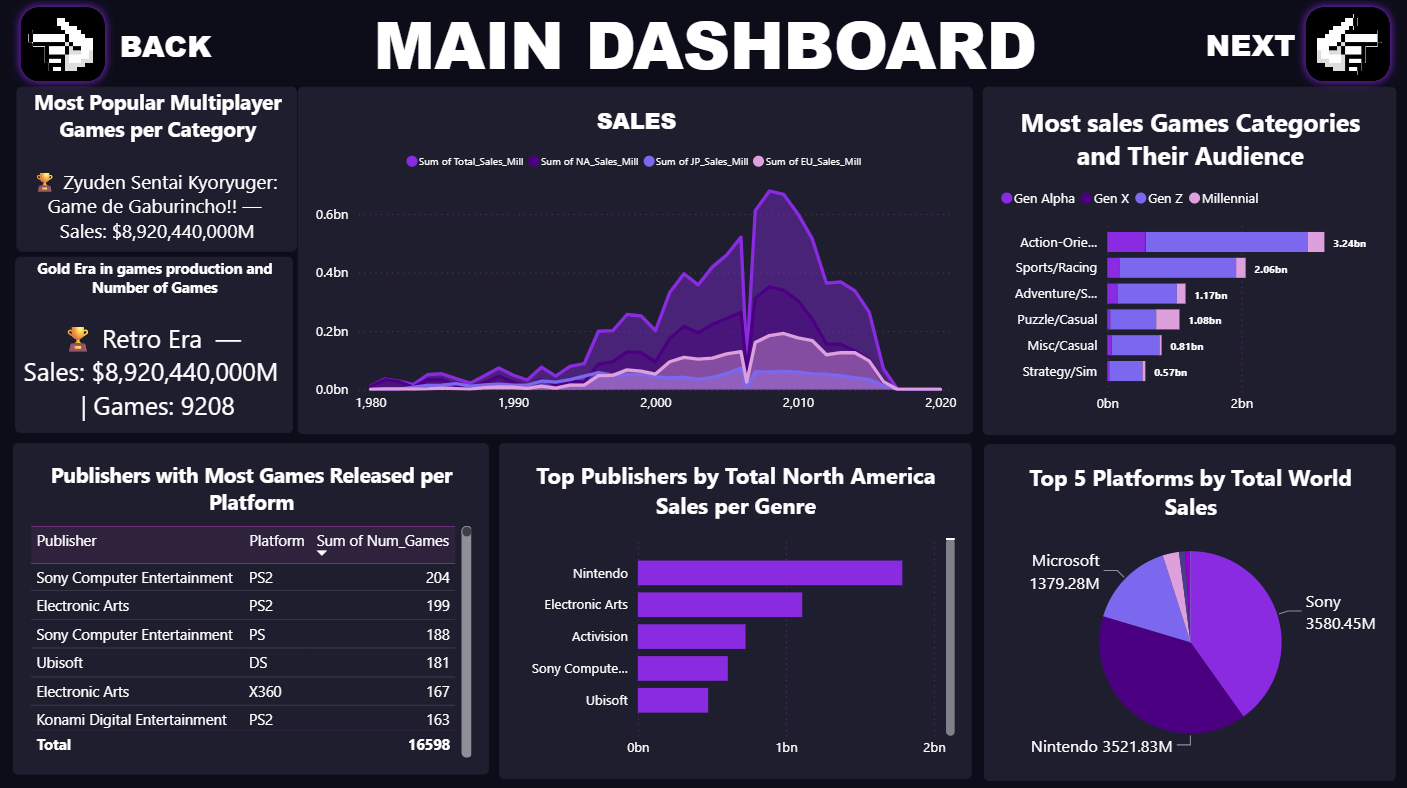

This screenshot's page, from the dashboard's own definition file:
{"tool":"powerbi","page":{"name":"MAIN DASHBOARD","canvas":[1280,720],"ordinal":1},"visuals":[{"type":"textbox","title":"MAIN DASHBOARD","box":[330.7,0,618.7,74],"z":0},{"type":"barChart","title":"Most sales Games Categories and Their Audience","fields":{"Category":["Dim_category.Category"],"Series":["Dim_time.People_Generation"],"Y":["Sum(Fact_Sales.Total_Sales_Mill)"]},"box":[892.3,80.8,375.2,316.3],"z":1000},{"type":"card","title":"Gold Era in games production and Number of Games","fields":{"Values":["Fact_Sales.Gold Era Summary"]},"box":[14.9,235.2,251.7,160.2],"z":2000},{"type":"barChart","title":"Top Publishers by Total North America Sales per Genre","fields":{"Category":["Fact_Sales.Publisher"],"Y":["Sum(Fact_Sales.Total_Sales_Mill)"]},"box":[453.6,403.6,428.6,305.1],"z":3000},{"type":"pieChart","title":"Top 5 Platforms by Total World Sales","fields":{"Category":["Dim_platform.Platform_Category"],"Y":["Sum(Fact_Sales.Total_Sales_Mill)"]},"box":[893.8,405.1,373.7,305.7],"z":4000},{"type":"card","title":" Most Popular Multiplayer Games per Category","fields":{"Values":["Fact_Sales.Most Popular Multiplayer Games per Category"]},"box":[16.2,80.8,254.7,149.5],"z":5000},{"type":"tableEx","title":"Publishers with Most Games Released per Platform","fields":{"Values":["PublisherPlatform_Count.Publisher","PublisherPlatform_Count.Platform","Sum(PublisherPlatform_Count.Num_Games)"]},"box":[12.8,403.6,431.7,300.5],"z":6000},{"type":"areaChart","title":"SALES","fields":{"Category":["Fact_Sales.Year"],"Y":["Sum(Fact_Sales.Total_Sales_Mill)","Sum(Fact_Sales.NA_Sales_Mill)","Sum(Fact_Sales.JP_Sales_Mill)","Sum(Fact_Sales.EU_Sales_Mill)"]},"box":[271.5,80.8,613.2,314.8],"z":7000},{"type":"actionButton","box":[1177.5,0,93,83.9],"z":8000},{"type":"textbox","title":"NEXT","box":[1080.8,22.9,109.8,39.7],"z":9000},{"type":"actionButton","box":[11.6,0,93,83.9],"z":10000},{"type":"textbox","title":"BACK","box":[105.9,23.5,91.5,39.7],"z":11000}]}

Visuals, with their boxes in screenshot pixels (x1, y1, x2, y2), scaled from the page's 1280x720 canvas onto the 1407x788 screenshot:
"MAIN DASHBOARD" textbox: [x1=364, y1=0, x2=1044, y2=81]
"Most sales Games Categories and Their Audience" barChart: [x1=981, y1=88, x2=1393, y2=435]
"Gold Era in games production and Number of Games" card: [x1=16, y1=257, x2=293, y2=433]
"Top Publishers by Total North America Sales per Genre" barChart: [x1=499, y1=442, x2=970, y2=776]
"Top 5 Platforms by Total World Sales" pieChart: [x1=982, y1=443, x2=1393, y2=778]
" Most Popular Multiplayer Games per Category" card: [x1=18, y1=88, x2=298, y2=252]
"Publishers with Most Games Released per Platform" tableEx: [x1=14, y1=442, x2=489, y2=771]
"SALES" areaChart: [x1=298, y1=88, x2=972, y2=433]
actionButton: [x1=1294, y1=0, x2=1397, y2=92]
"NEXT" textbox: [x1=1188, y1=25, x2=1309, y2=69]
actionButton: [x1=13, y1=0, x2=115, y2=92]
"BACK" textbox: [x1=116, y1=26, x2=217, y2=69]
